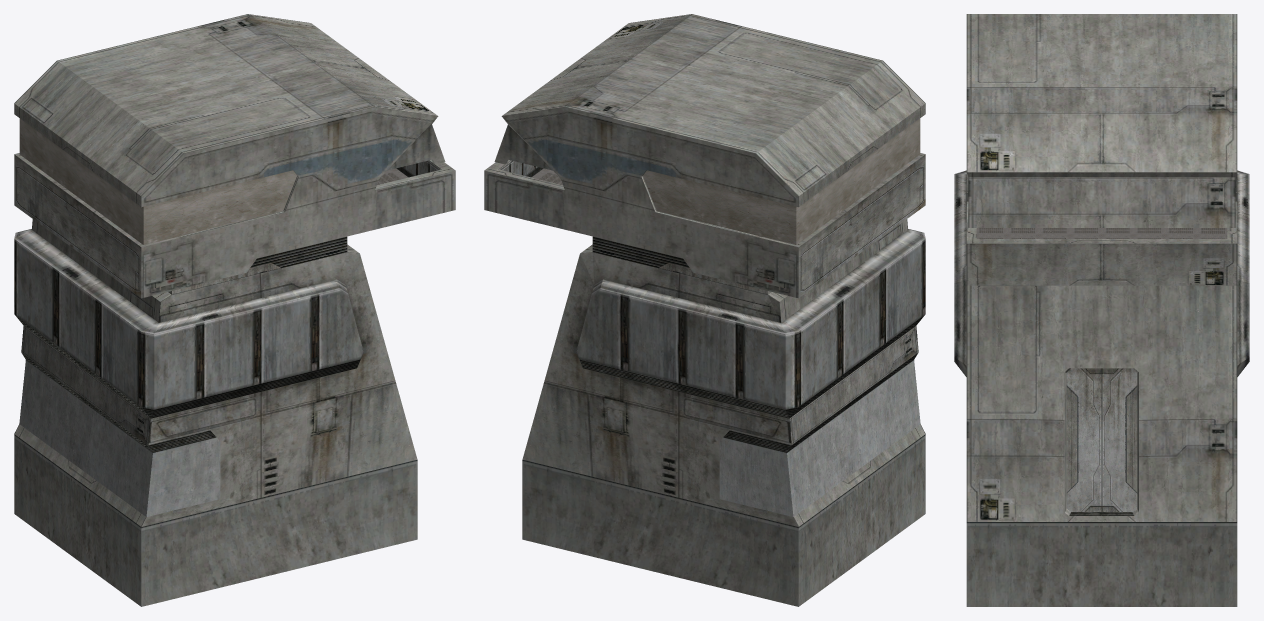
File: mun_all_military_base_lookout_s01_l1.fbx
3 renders of one model, left to right at view 1: azimuth 30°, elevation 25°; view 2: azimuth 150°, elevation 25°; view 3: azimuth 270°, elevation 25°, orthographic. The views are drawn at different scales.
Parts seen in each view (by area): view 1: mesh_node; view 2: mesh_node; view 3: mesh_node.
Boxes of the visible parts, x1,y1,x2,y2 form: mesh_node: [14, 14, 455, 606]; mesh_node: [484, 14, 925, 606]; mesh_node: [954, 14, 1249, 606].
Bounding box in the file's own units: 8.23 × 11.08 × 6.29.
